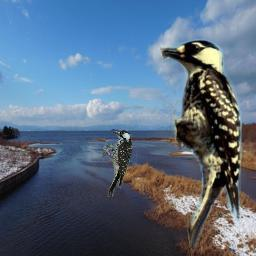Woodpecker: (157, 39, 246, 250), (103, 130, 132, 197)
